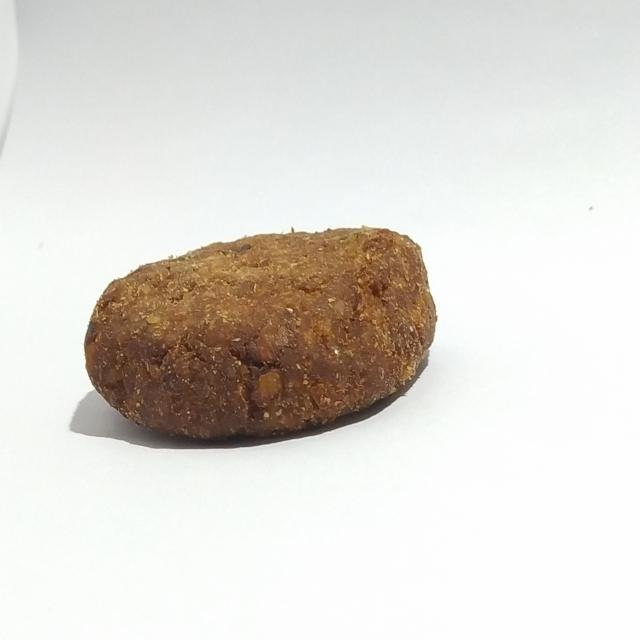Pajagua: (72, 205, 446, 452)
